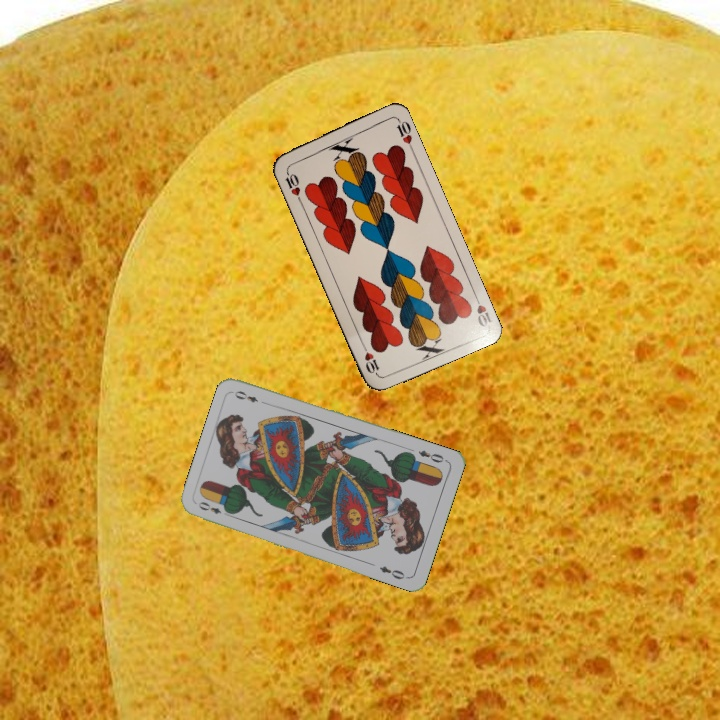EO: (194, 498, 233, 518), (414, 446, 450, 465)
H10: (470, 289, 494, 329), (281, 165, 304, 204)
